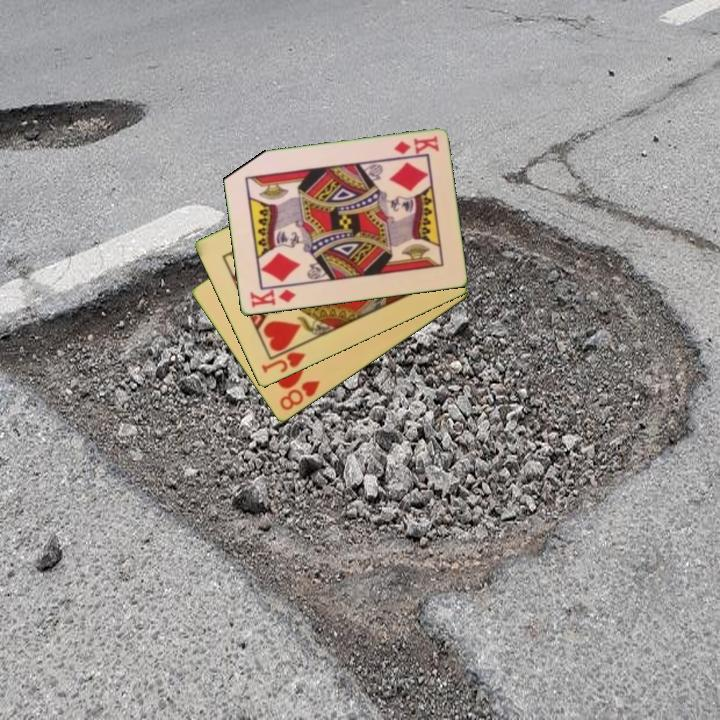8h: (276, 377, 323, 414)
Jh: (258, 340, 308, 376)
Kd: (246, 286, 298, 310), (390, 133, 441, 157)
